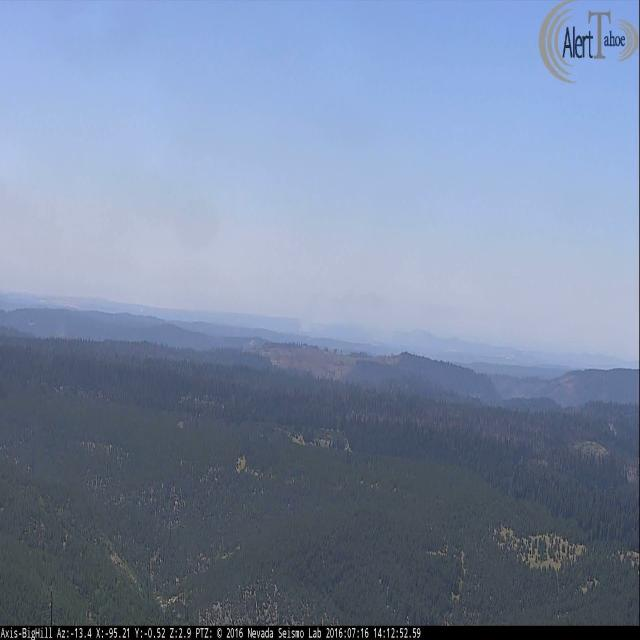smoke: (298, 287, 377, 336)
